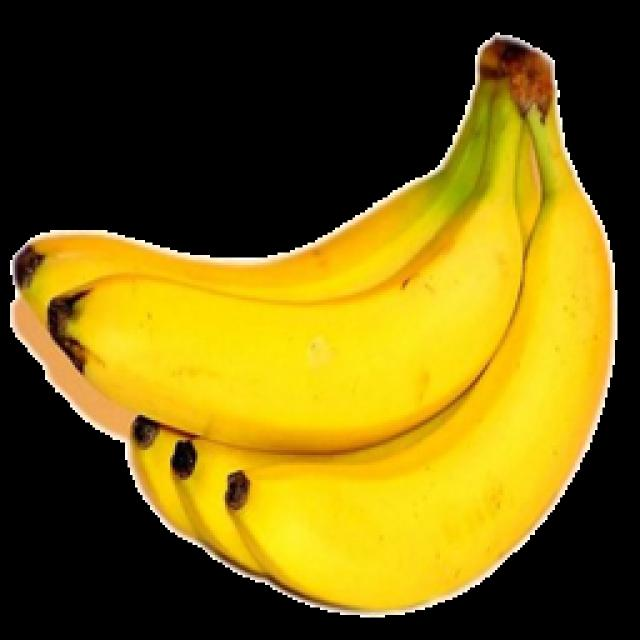Fresh_Banana: (348, 4, 640, 640), (29, 198, 554, 487)
